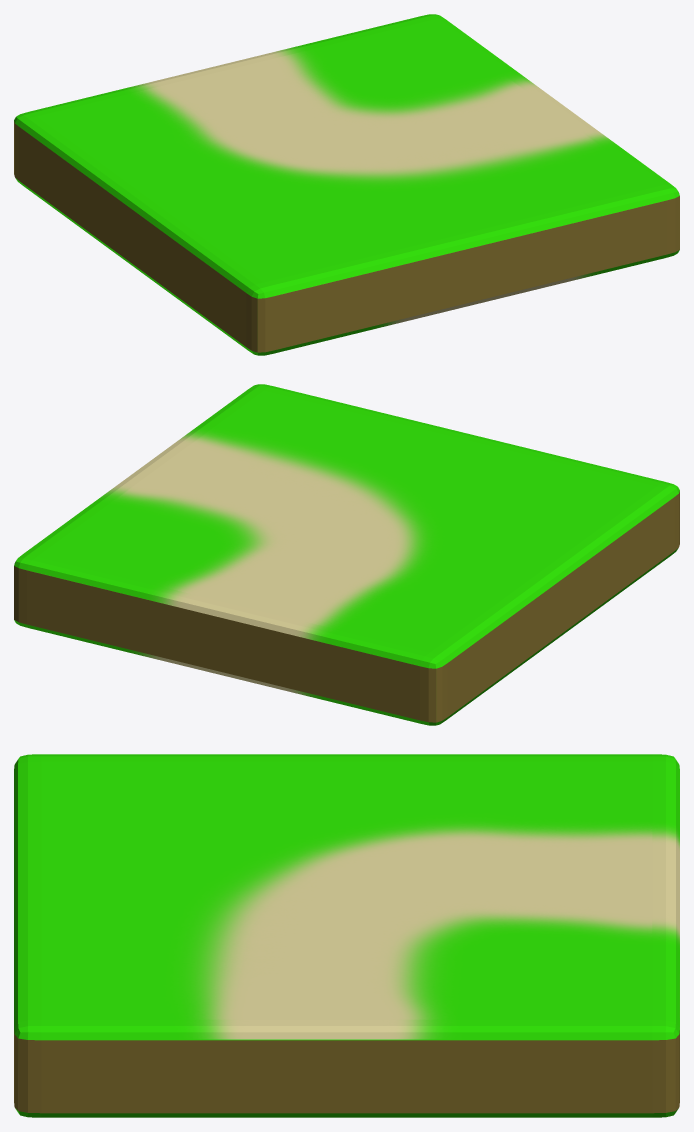
Rendered from Tile.fbx.
3 views of the same model, one above another, from view 1: azimuth 30°, elevation 25°; view 2: azimuth 150°, elevation 25°; view 3: azimuth 270°, elevation 25° (orthographic). The views are drawn at different scales.
Parts seen in each view (by area): view 1: Tile; view 2: Tile; view 3: Tile.
Part boxes in pixels (x1,y1,x2,y2): Tile: (14, 14, 679, 355); Tile: (14, 384, 679, 725); Tile: (14, 754, 679, 1117).
Size of the model in its own units: 100 by 100 by 15.
